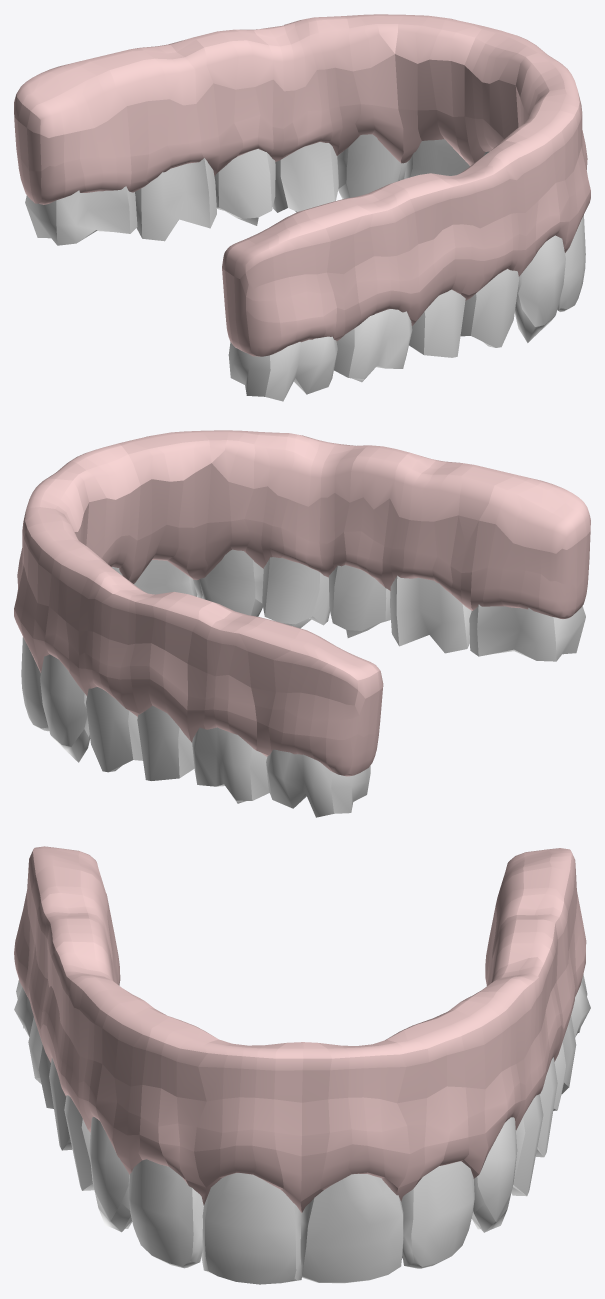
The model's file is cowMan_teeth_upper.fbx.
The picture shows the model from 3 angles, top to bottom: view 1: azimuth 30°, elevation 25°; view 2: azimuth 150°, elevation 25°; view 3: azimuth 270°, elevation 25°; orthographic projection. The views are drawn at different scales.
Visible parts, largest first — view 1: gum_upper, Box37, Box52, Box43, Box51, Box32, Box49, Box35, Box53, Box07, Box50, Box05 (+1 smaller); view 2: gum_upper, Box52, Box51, Box43, Box37, Box53, Box07, Box50, Box32, Box35, Box49, Box29 (+1 smaller); view 3: gum_upper, Box04, Box03, Box29, Box05, Box07, Box49, Box32, Box53, Box35, Box37, Box51 (+3 smaller).
Part boxes in pixels (x1,y1,x2,y2): gum_upper: (14,14,590,356); Box37: (135,158,216,241); Box52: (228,336,337,401); Box43: (25,186,137,245); Box51: (334,309,412,382); Box32: (273,142,338,212); Box49: (514,235,565,342); Box35: (214,149,275,225); Box53: (460,269,519,347); Box07: (337,134,407,199); Box50: (409,289,465,357); Box05: (404,139,469,178); gum_upper: (14,430,590,776); Box52: (469,604,585,661); Box51: (390,575,471,653); Box43: (266,749,370,817); Box37: (192,727,269,803); Box53: (262,557,329,628); Box07: (40,654,90,762); Box50: (329,565,390,637); Box32: (86,687,142,772); Box35: (137,705,194,780); Box49: (193,549,263,616); Box29: (134,559,197,596); gum_upper: (14,846,586,1212); Box04: (300,1173,403,1283); Box03: (201,1173,301,1284); Box29: (128,1159,203,1268); Box05: (401,1161,474,1268); Box07: (471,1117,517,1232); Box49: (89,1117,132,1232); Box32: (511,1094,543,1196); Box53: (64,1095,94,1190); Box35: (535,1057,557,1157); Box37: (553,1016,576,1110); Box51: (28,1017,53,1108).
Size of the model in its own units: 7.42 by 3.37 by 7.49.
